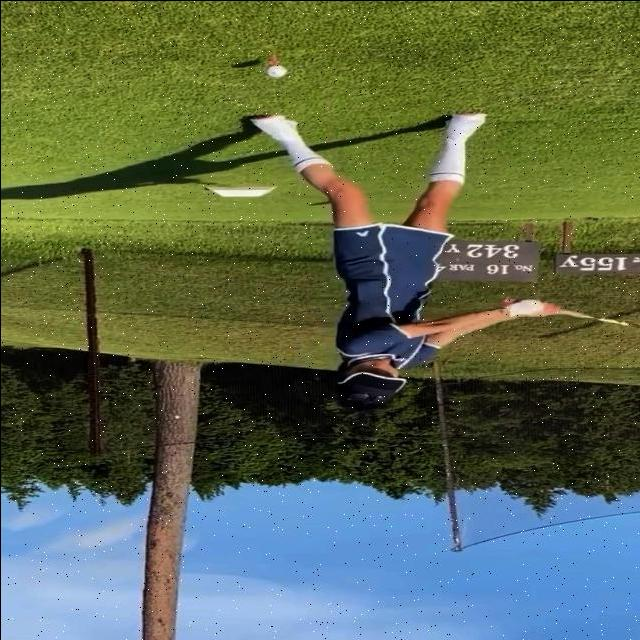ClubHandle: (502, 295, 638, 328)
GolfBall: (266, 64, 286, 77)
